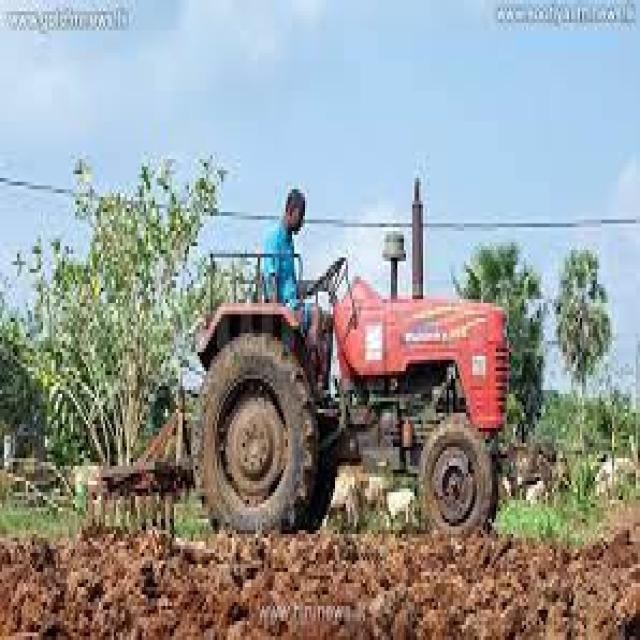person: (264, 189, 303, 307)
tractor: (88, 261, 507, 538)
